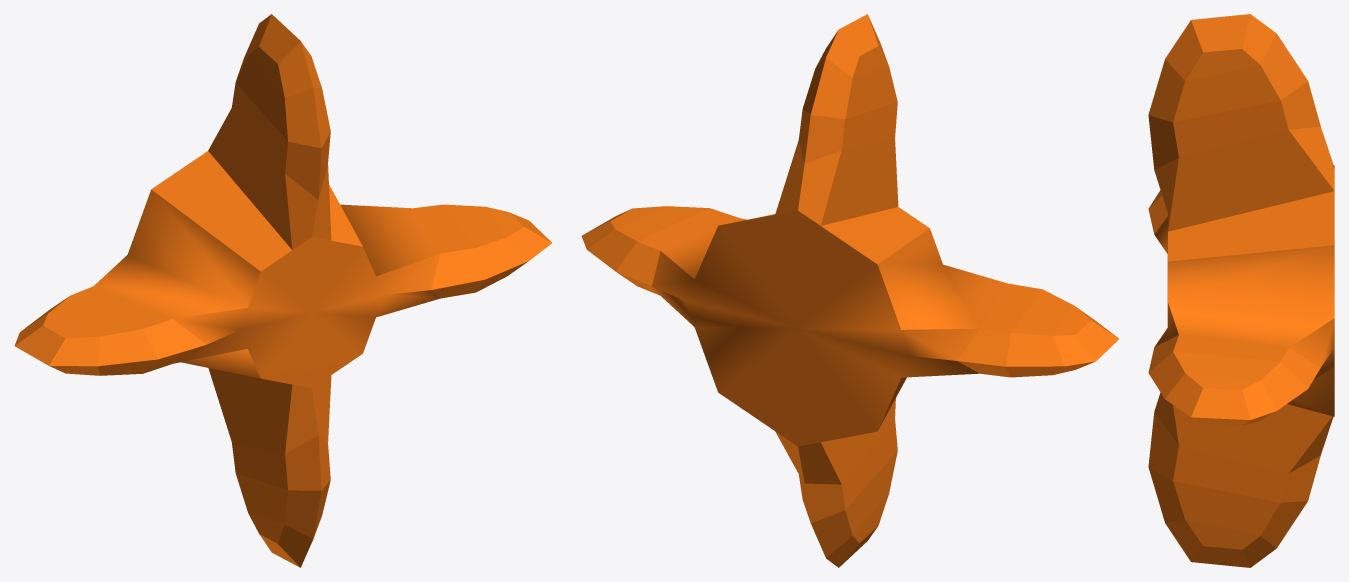
Rendered from submarrineValve.fbx.
The picture shows the model from 3 angles, left to right: view 1: azimuth 30°, elevation 25°; view 2: azimuth 150°, elevation 25°; view 3: azimuth 270°, elevation 25°; orthographic projection. The views are drawn at different scales.
Parts seen in each view (by area): view 1: Circle.001; view 2: Circle.001; view 3: Circle.001.
Boxes of the visible parts, <box> form: Circle.001: <box>14,14,551,567</box>; Circle.001: <box>581,14,1118,567</box>; Circle.001: <box>1148,14,1334,567</box>.
Bounding box in the file's own units: 107 × 107 × 32.5.
